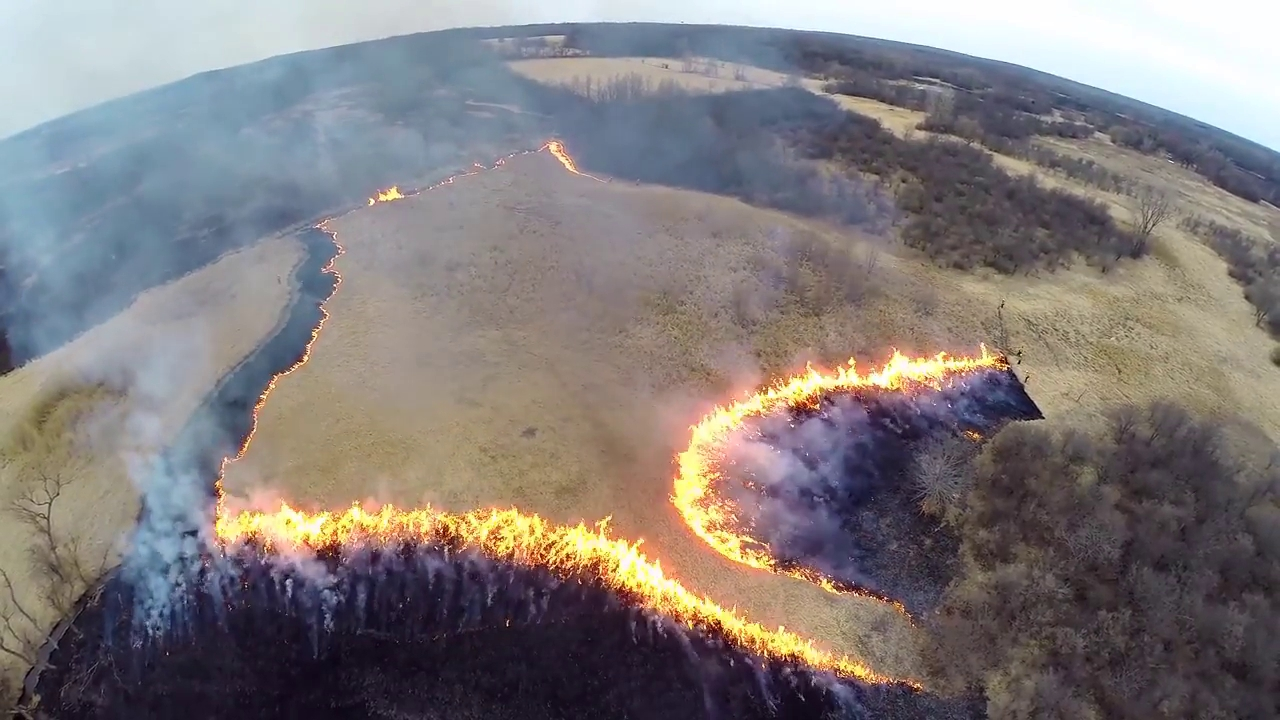forest_fire: (214, 480, 920, 687), (672, 347, 1006, 568), (223, 302, 327, 469), (368, 165, 487, 203), (528, 140, 584, 175), (317, 220, 342, 290), (789, 569, 840, 588), (492, 157, 505, 166), (506, 153, 521, 156), (329, 293, 330, 295)
